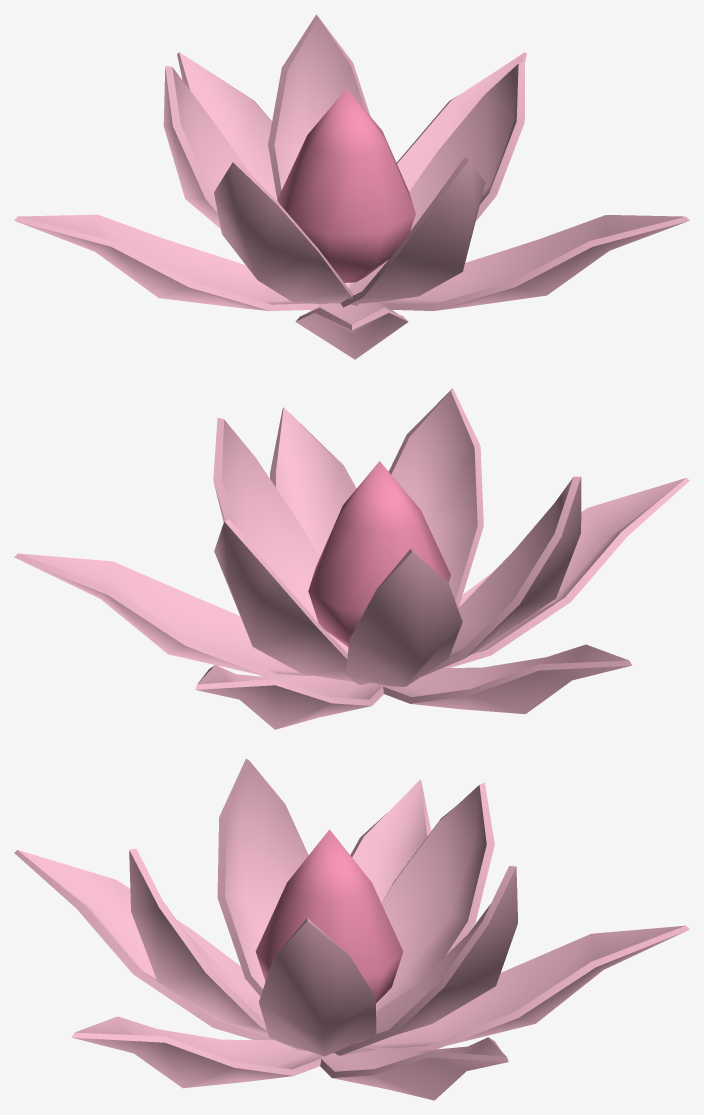
The model's file is lotus.fbx.
3 renders of one model, top to bottom at view 1: azimuth 30°, elevation 25°; view 2: azimuth 150°, elevation 25°; view 3: azimuth 270°, elevation 25°, orthographic. The views are drawn at different scales.
Parts seen in each view (by area): view 1: lotus; view 2: lotus; view 3: lotus.
Boxes of the visible parts, box(x1,y1,x2,y2) form: lotus: box(14, 14, 689, 359); lotus: box(14, 388, 689, 729); lotus: box(14, 758, 689, 1100).
Bounding box in the file's own units: 391 × 147 × 398.
